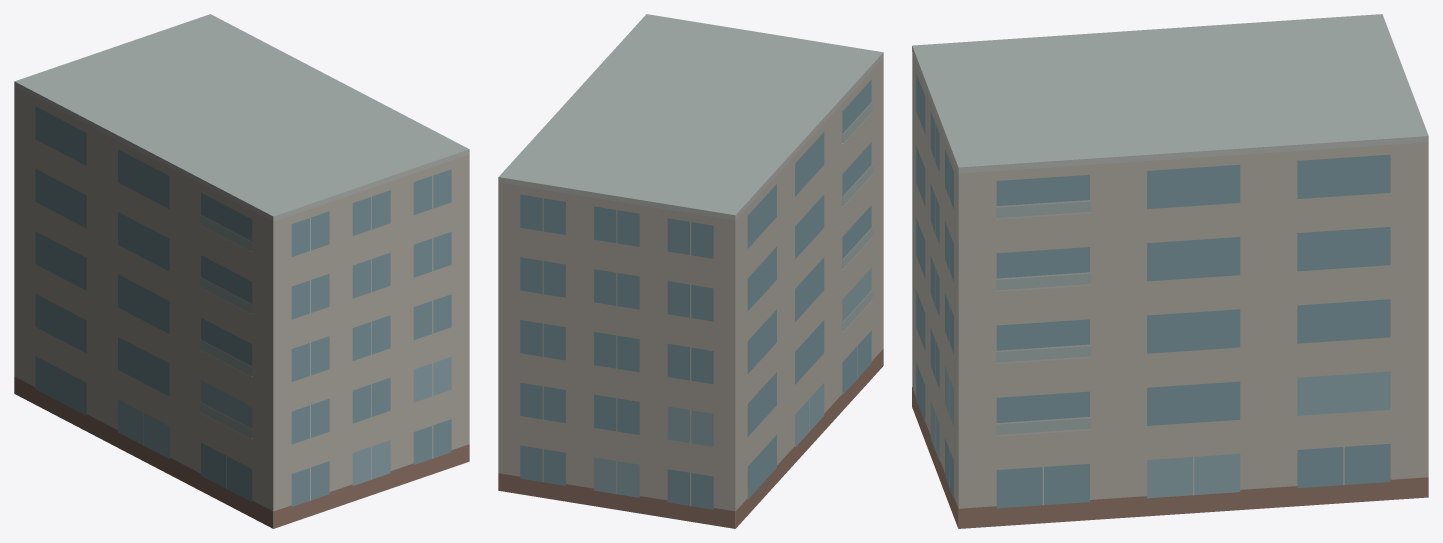
File: survey-upis-32614613.glb
The picture shows the model from 3 angles, left to right: view 1: azimuth 30°, elevation 25°; view 2: azimuth 150°, elevation 25°; view 3: azimuth 270°, elevation 25°; orthographic projection. The views are drawn at different scales.
Parts seen in each view (by area): view 1: survey-upis-32614613.tmp; view 2: survey-upis-32614613.tmp; view 3: survey-upis-32614613.tmp.
Part boxes in pixels (x1,y1,x2,y2): survey-upis-32614613.tmp: [14, 14, 469, 528]; survey-upis-32614613.tmp: [498, 14, 883, 528]; survey-upis-32614613.tmp: [912, 14, 1428, 528].
Bounding box in the file's own units: 13.22 × 14.5 × 18.8.
